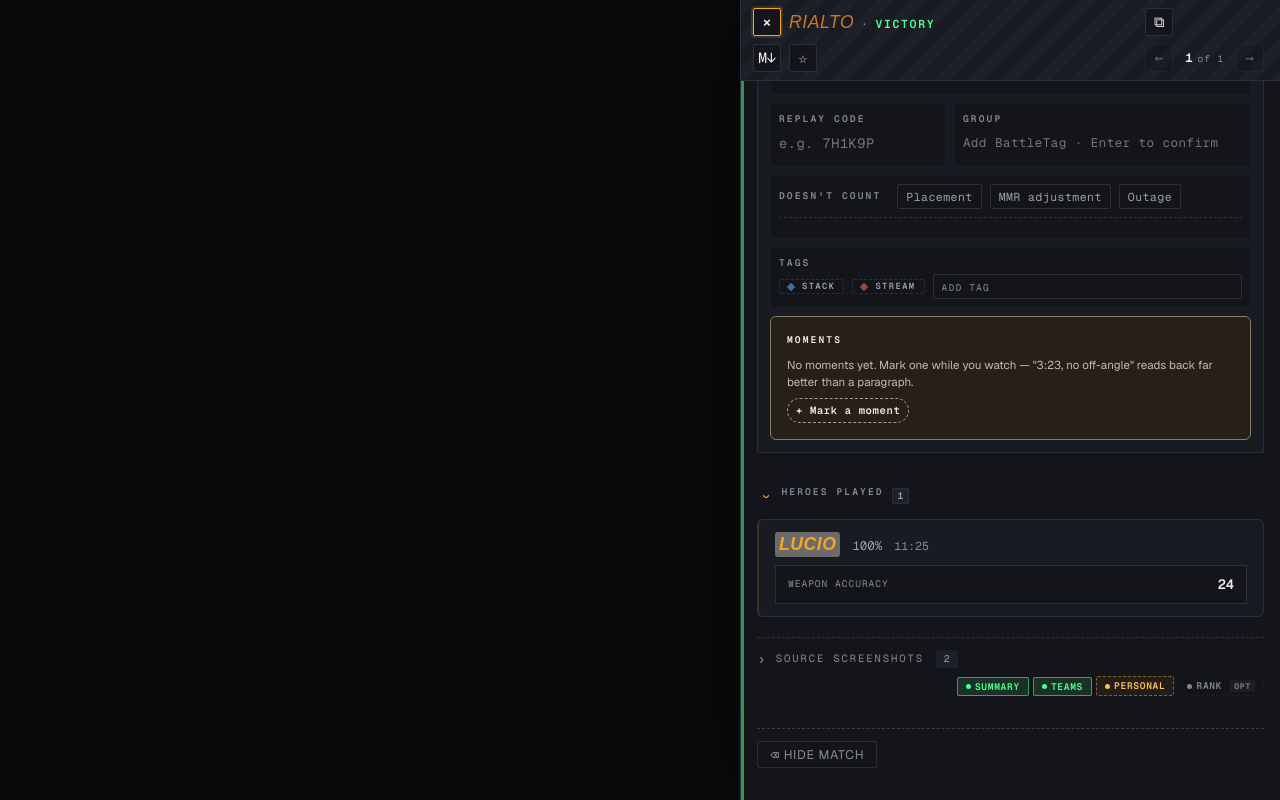
Scenario: MatchDetailPanel — soft-delete flow › Cancel resets the confirm state without writing
(page scrolled)
Click the button "⌫ Hide match" at [817, 755], box [757, 742, 877, 768]
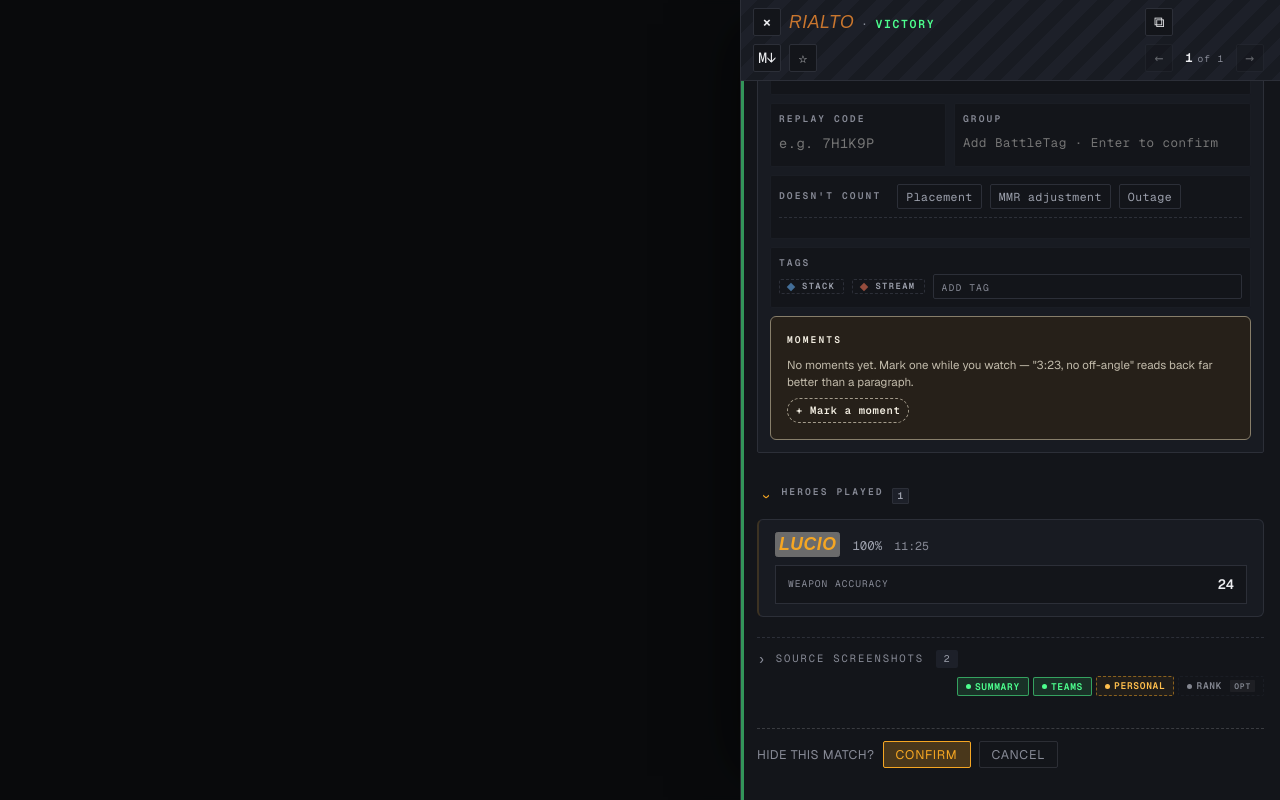
Click the button "Cancel" at [1018, 755], box [978, 742, 1058, 768]
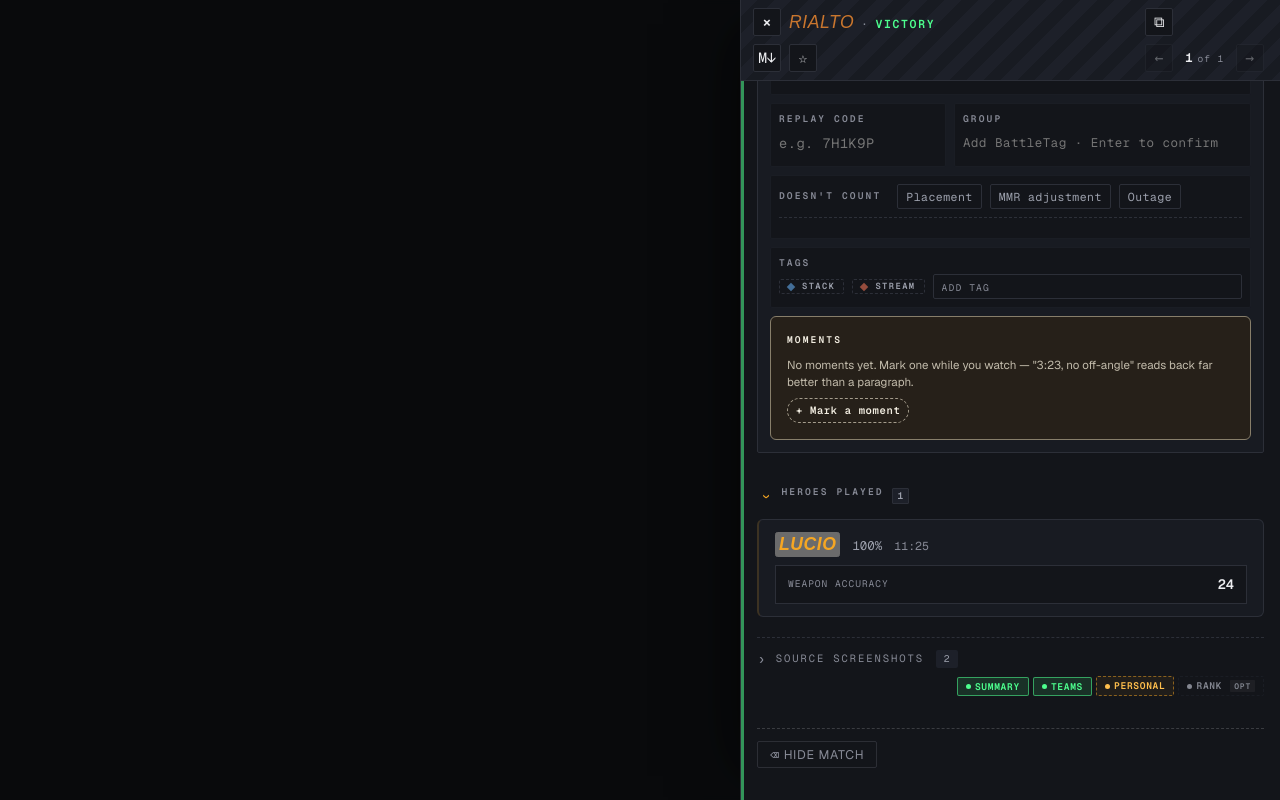
Now the button "⌫ Hide match" is shown, box [757, 742, 877, 768]
